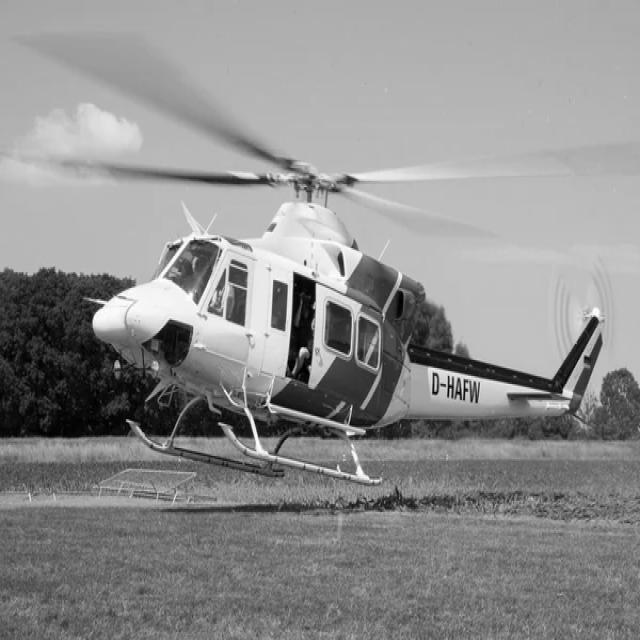Helicopter: (11, 36, 640, 485)
